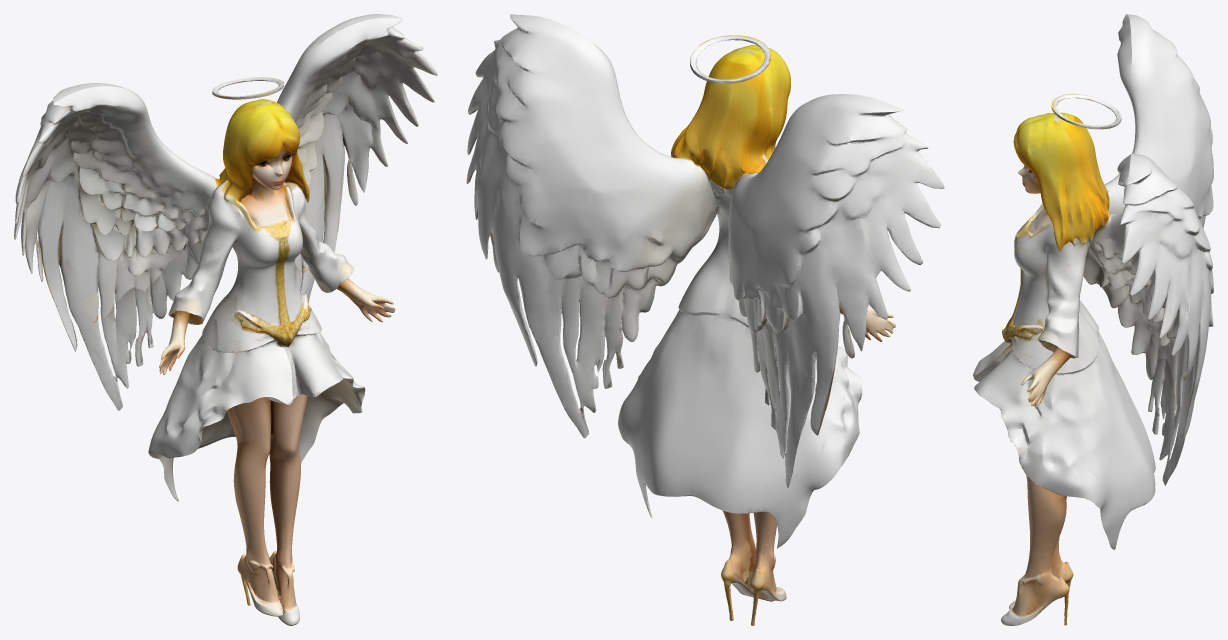
Rendered from celestara.glb.
The picture shows the model from 3 angles, left to right: view 1: azimuth 30°, elevation 25°; view 2: azimuth 150°, elevation 25°; view 3: azimuth 270°, elevation 25°; orthographic projection. The views are drawn at different scales.
Visible parts, largest first — view 1: model; view 2: model; view 3: model.
Boxes of the visible parts, x1,y1,x2,y2 form: model: (14, 14, 437, 625); model: (466, 14, 944, 625); model: (973, 14, 1213, 625).
Size of the model in its own units: 1.58 by 1.9 by 0.7862.
1 material, 1 textured.
